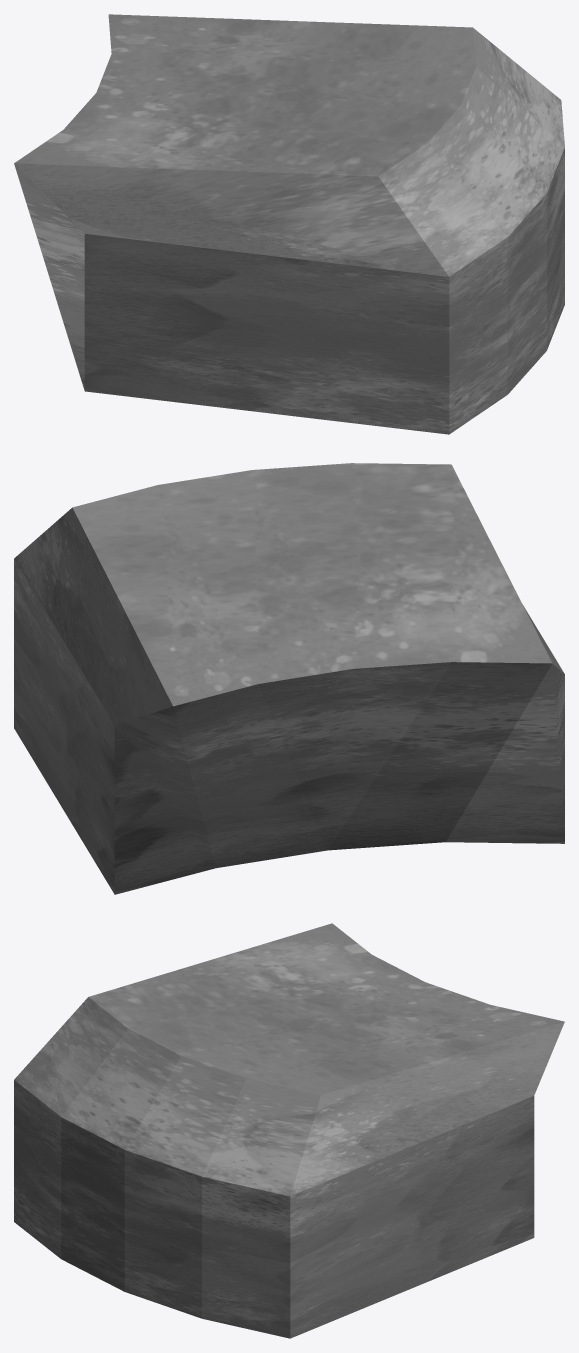
File: Estatua_base_2.glb
3 views of the same model, one above another, from view 1: azimuth 30°, elevation 25°; view 2: azimuth 150°, elevation 25°; view 3: azimuth 270°, elevation 25° (orthographic). The views are drawn at different scales.
Parts seen in each view (by area): view 1: F_estatua_base2; view 2: F_estatua_base2; view 3: F_estatua_base2.
Boxes of the visible parts, <box> form: F_estatua_base2: <box>14,14,564,434</box>; F_estatua_base2: <box>14,463,564,894</box>; F_estatua_base2: <box>14,923,564,1338</box>.
Size of the model in its own units: 3.09 by 1.32 by 3.12.
1 material, 1 textured.
